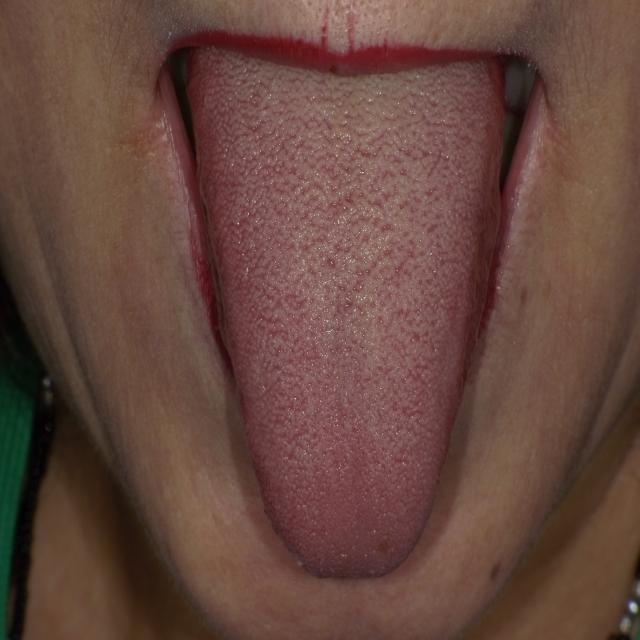hongshe: (188, 45, 505, 580)
huangtaishe: (188, 45, 505, 580)
shoushe: (188, 45, 505, 580)
